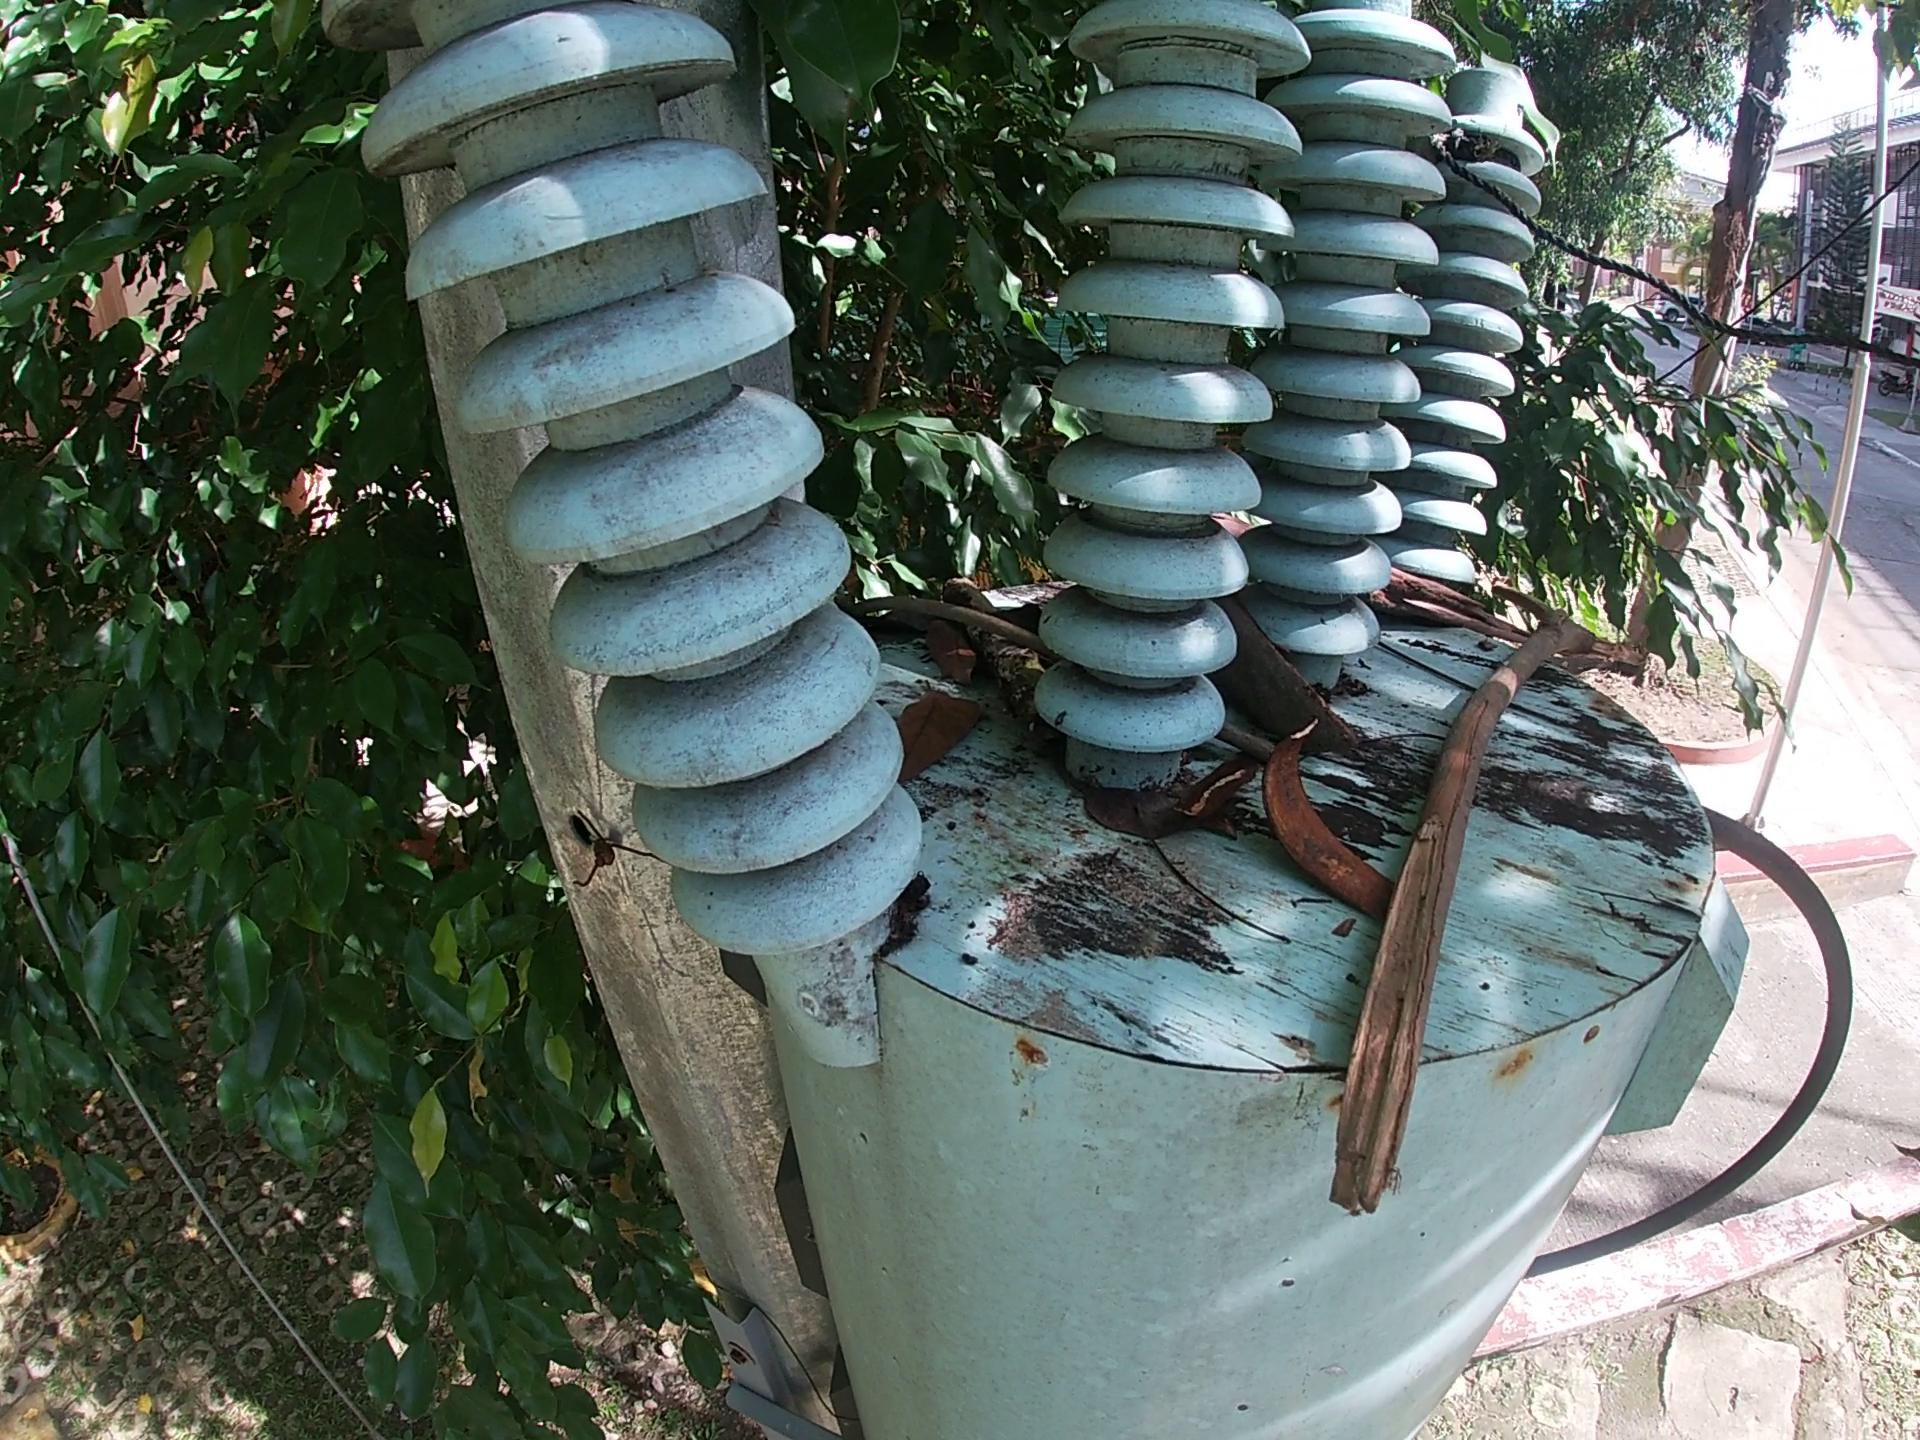leaf: (909, 685, 992, 762), (1079, 781, 1154, 829)
mahogany fruit: (1277, 717, 1388, 926), (1223, 622, 1367, 756)
tree branch: (1305, 594, 1680, 1262), (1132, 833, 1315, 961), (1394, 644, 1618, 743), (1380, 566, 1536, 656), (940, 564, 1034, 711), (835, 593, 1036, 637), (1167, 755, 1259, 824), (1222, 508, 1267, 520)
